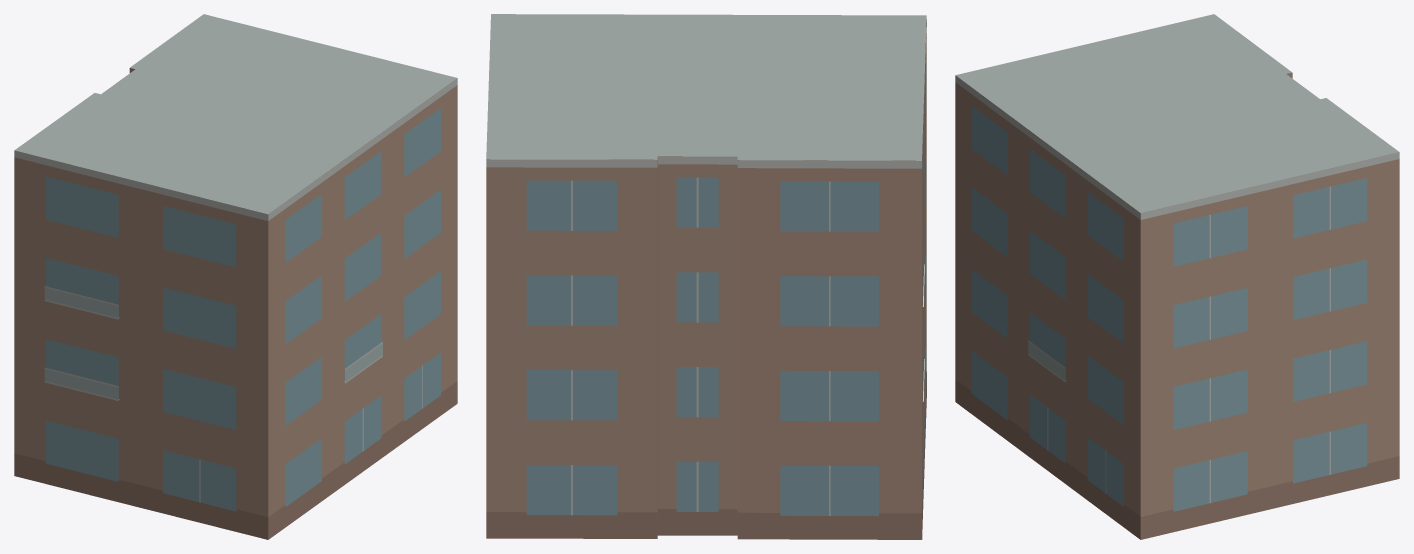
File: survey-upis-32622225.glb
The picture shows the model from 3 angles, left to right: view 1: azimuth 30°, elevation 25°; view 2: azimuth 150°, elevation 25°; view 3: azimuth 270°, elevation 25°; orthographic projection. The views are drawn at different scales.
Parts seen in each view (by area): view 1: survey-upis-32622225.tmp; view 2: survey-upis-32622225.tmp; view 3: survey-upis-32622225.tmp.
Part boxes in pixels (box(x1,y1,x2,y2)): survey-upis-32622225.tmp: box(14, 14, 457, 539); survey-upis-32622225.tmp: box(486, 14, 926, 539); survey-upis-32622225.tmp: box(955, 14, 1399, 539).
Size of the model in its own units: 15.18 by 11.6 by 14.31.
